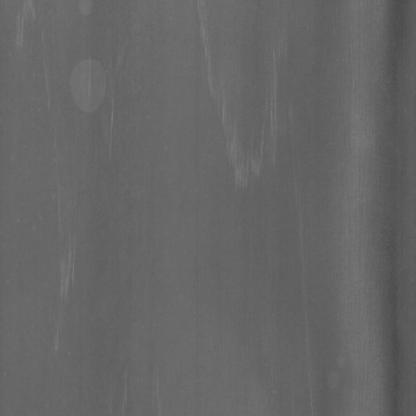silk_spot: (200, 31, 285, 220)
